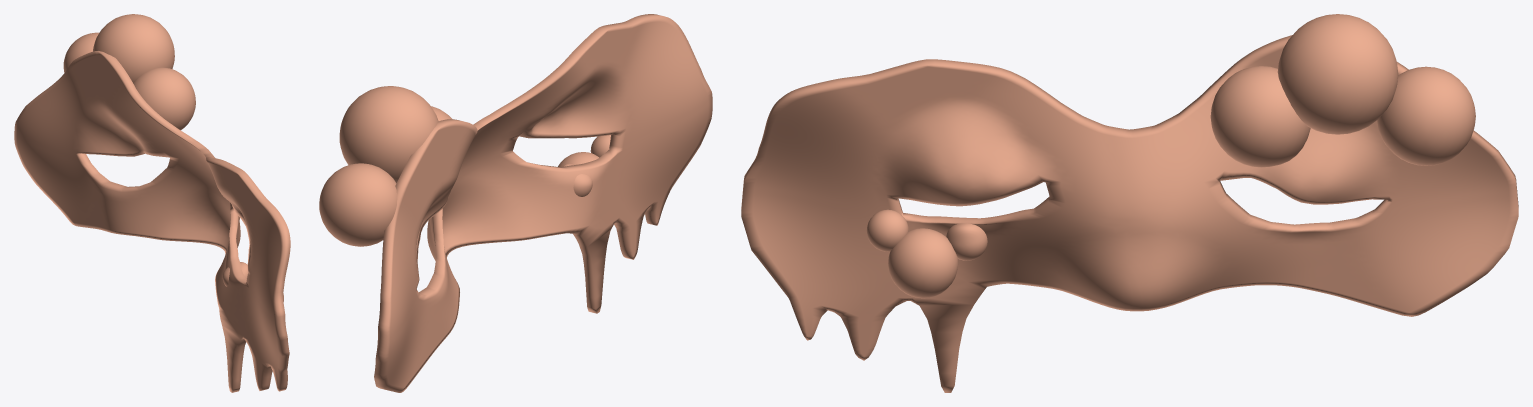
File: 疱灾面具.fbx
3 renders of one model, left to right at view 1: azimuth 30°, elevation 25°; view 2: azimuth 150°, elevation 25°; view 3: azimuth 270°, elevation 25°, orthographic. The views are drawn at different scales.
Parts seen in each view (by area): view 1: 疱灾面具; view 2: 疱灾面具; view 3: 疱灾面具.
Boxes of the visible parts, left/top/right/bottom form: 疱灾面具: left=14, top=14, right=290, bottom=392; 疱灾面具: left=319, top=14, right=712, bottom=392; 疱灾面具: left=741, top=14, right=1518, bottom=392.
Size of the model in its own units: 39.13 by 107 by 191.
